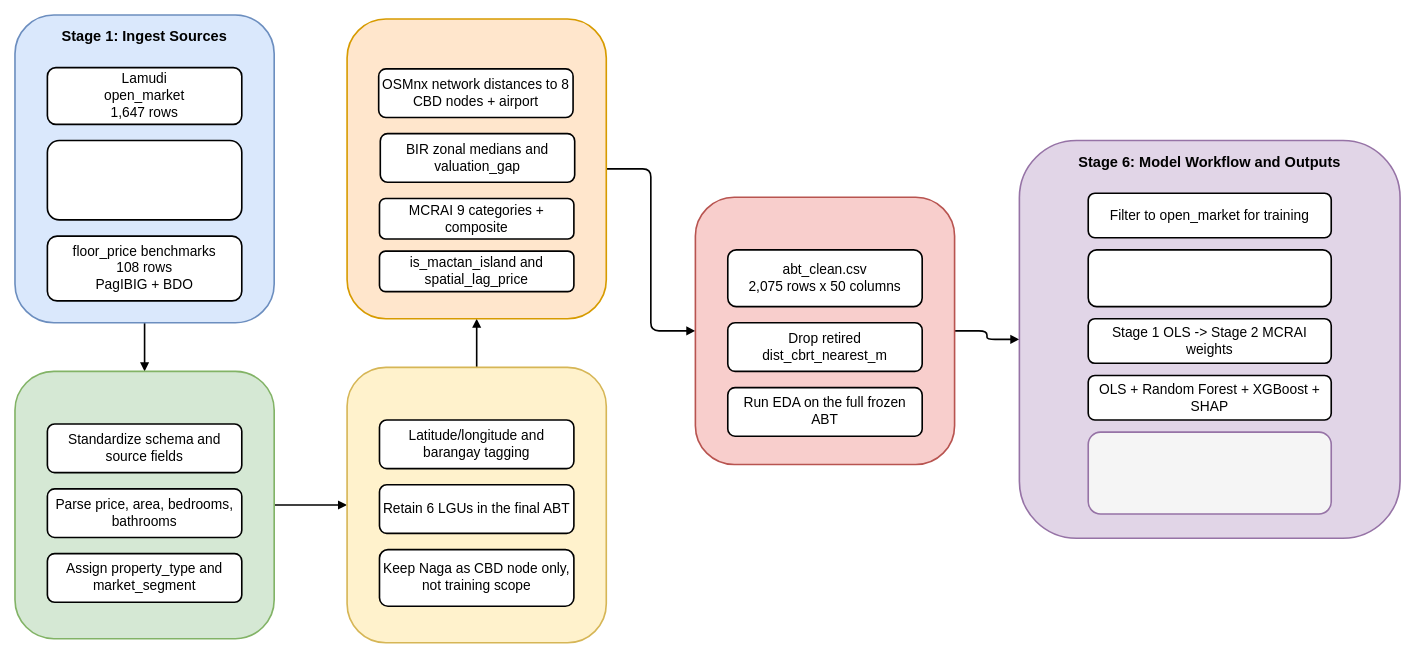
The diagram is 1414 pixels wide and 657 high, and some of its shapes have lost their labels. The box of each missing label's shape, as (x1, y1, x2, y2) in pixels:
1,647 open_market rows 1,537 with non-null price_per_sqm: (1087, 249, 1332, 307)
bank_ropa inventory 320 rows BoC, BPI, Metrobank, Landbank, CBS: (46, 139, 242, 220)
Deployed output: Random Forest-backed Streamlit and QGIS open-market surface: (1087, 431, 1332, 514)
Stage 2: Harmonize and Parse: (14, 370, 275, 639)
Stage 3: Geocode and Scope: (346, 366, 607, 643)
Stage 4: Spatial Enrichment: (346, 18, 607, 319)
Stage 5: Freeze ABT: (694, 196, 955, 465)
